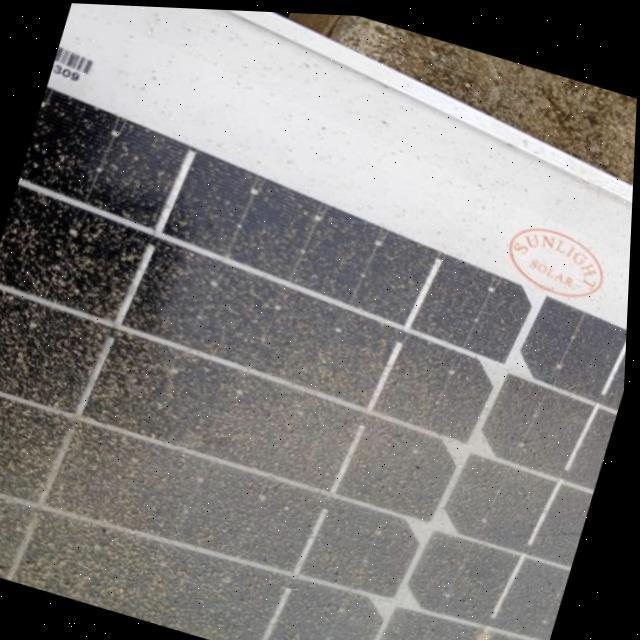Surface Contaminant: (0, 124, 630, 640)
